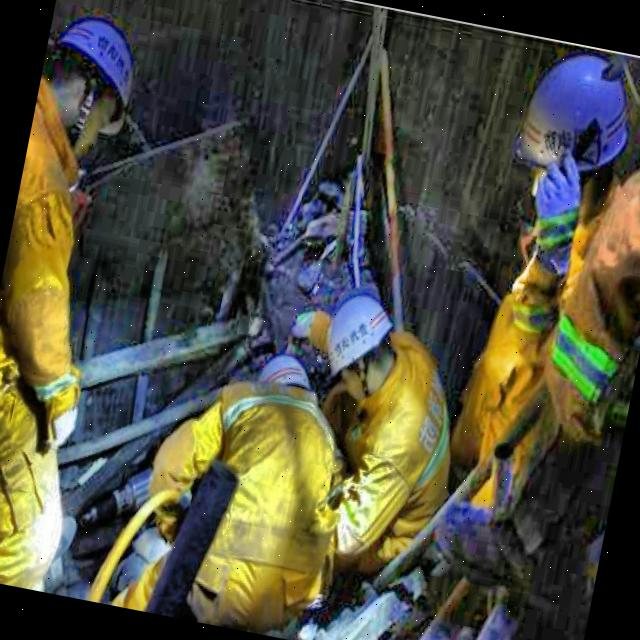helmet: (23, 0, 159, 198), (508, 46, 640, 232), (310, 278, 414, 424), (247, 344, 326, 421)
